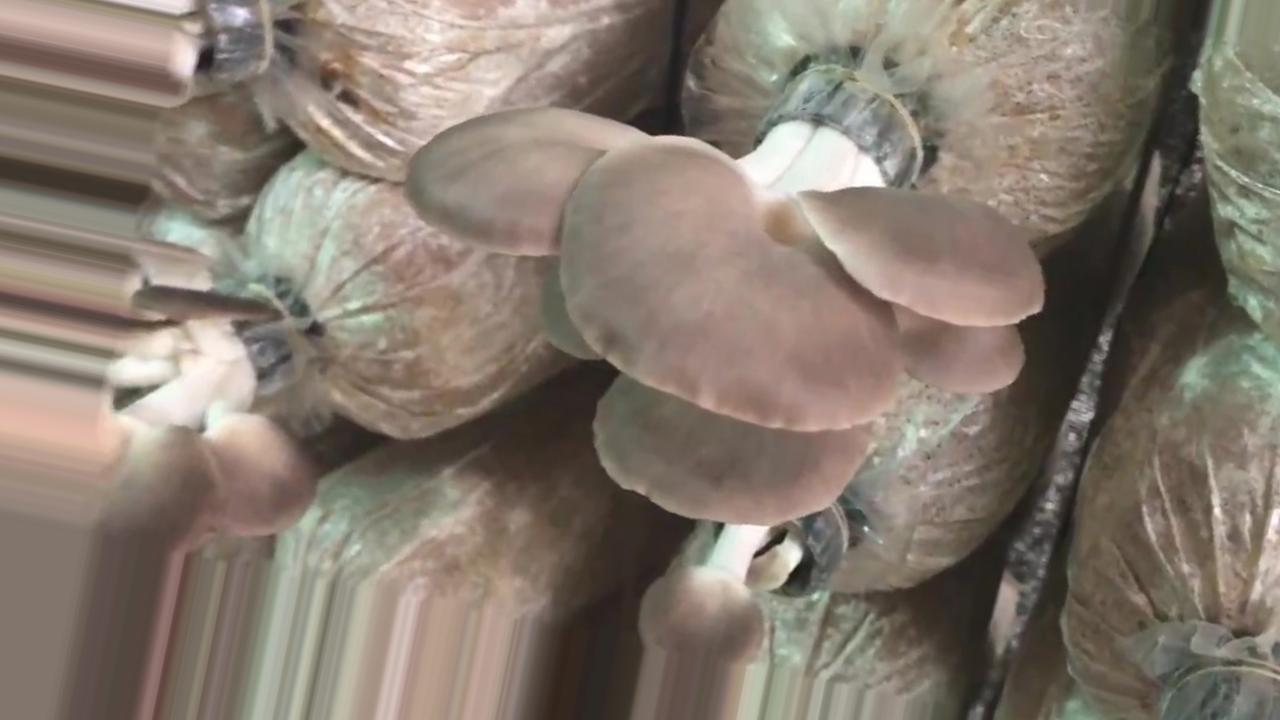nam: (402, 62, 1045, 524), (1, 235, 313, 532), (630, 488, 856, 720), (1, 1, 268, 106)
